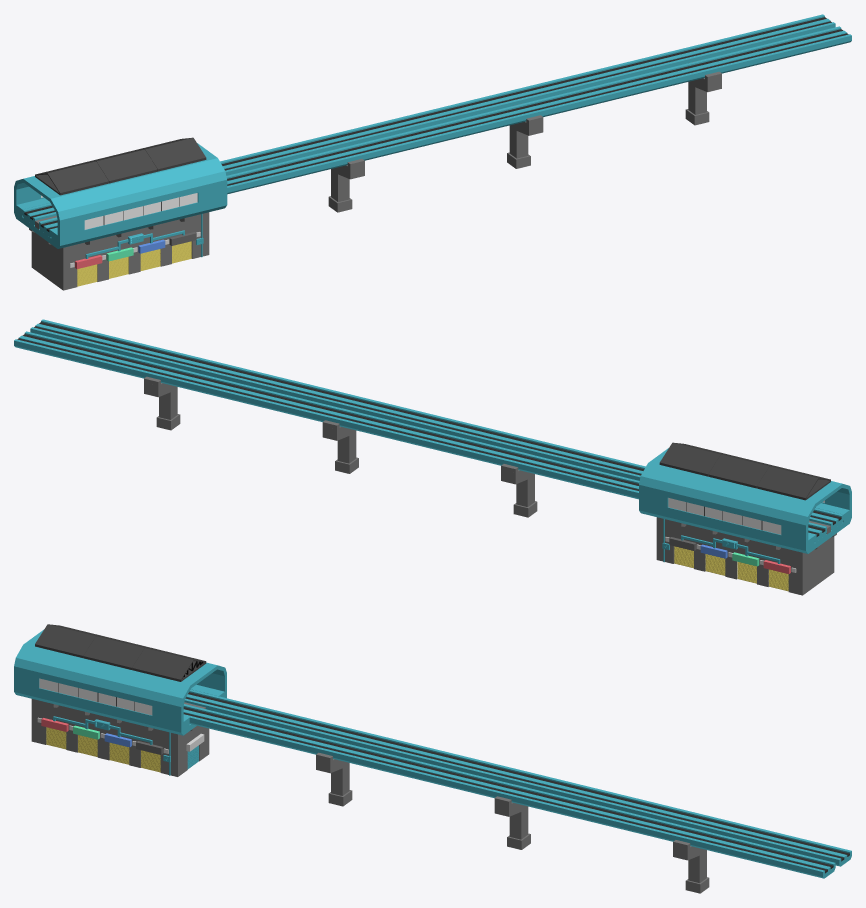
File: metroStation_Geo.fbx
3 views of the same model, one above another, from view 1: azimuth 30°, elevation 25°; view 2: azimuth 150°, elevation 25°; view 3: azimuth 330°, elevation 25° (orthographic).
Parts seen in each view (by area): view 1: metroStation; view 2: metroStation; view 3: metroStation.
Boxes of the visible parts, <box> form: metroStation: <box>14,14,851,290</box>; metroStation: <box>14,319,851,595</box>; metroStation: <box>14,624,851,893</box>.
Size of the model in its own units: 20257 by 2558 by 2011.
13 materials, 2 textured.
